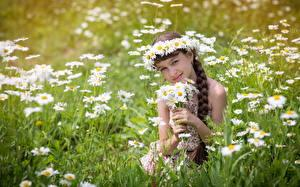chamomile: (235, 118, 267, 149), (218, 142, 245, 158), (234, 90, 261, 102), (34, 92, 52, 108), (29, 145, 53, 157), (88, 66, 111, 78), (159, 86, 175, 101), (154, 40, 171, 54), (144, 47, 155, 65), (43, 170, 61, 179), (62, 86, 79, 95), (62, 173, 78, 182), (174, 88, 187, 99), (20, 179, 34, 187), (222, 54, 230, 67), (171, 40, 183, 48), (181, 38, 190, 46)
